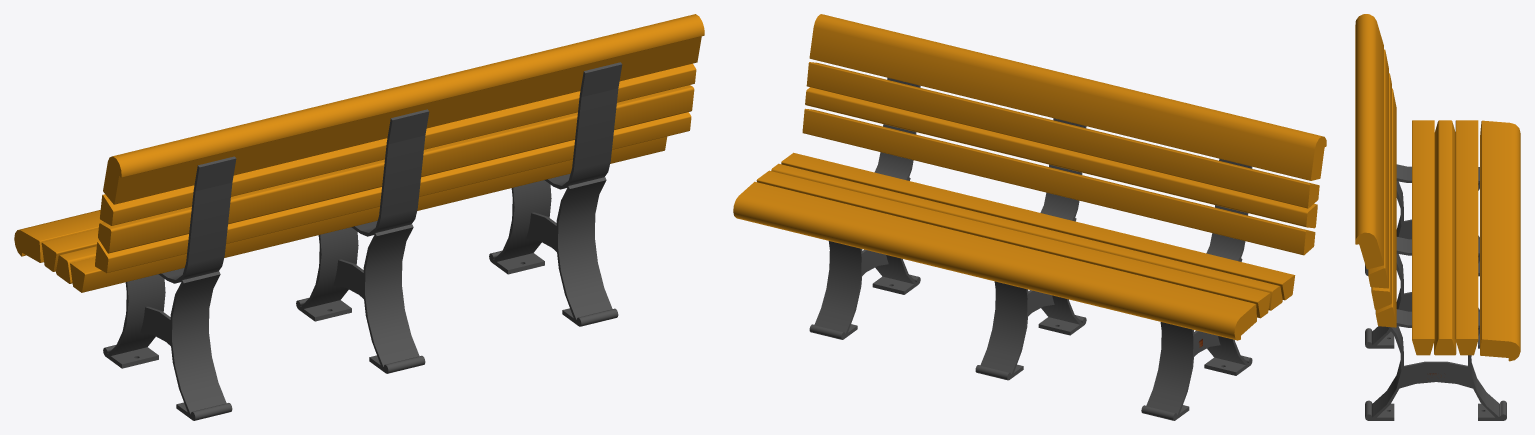
3 views of the same model, side by side, from view 1: azimuth 30°, elevation 25°; view 2: azimuth 150°, elevation 25°; view 3: azimuth 270°, elevation 25° (orthographic). The views are drawn at different scales.
Visible parts, largest first — view 1: mesh16_mesh16-geometry, mesh13_mesh13-geometry, mesh2_mesh2-geometry, mesh1_mesh1-geometry, mesh18_mesh18-geometry, mesh4_mesh4-geometry, mesh3_mesh3-geometry; view 2: mesh16_mesh16-geometry, mesh13_mesh13-geometry, mesh18_mesh18-geometry, mesh4_mesh4-geometry, mesh2_mesh2-geometry, mesh1_mesh1-geometry, mesh3_mesh3-geometry; view 3: mesh16_mesh16-geometry, mesh13_mesh13-geometry, mesh18_mesh18-geometry, mesh2_mesh2-geometry, mesh3_mesh3-geometry, mesh4_mesh4-geometry, mesh1_mesh1-geometry.
Boxes of the visible parts, left/top/right/bottom form: mesh16_mesh16-geometry: left=14, top=14, right=704, bottom=262; mesh13_mesh13-geometry: left=41, top=63, right=696, bottom=292; mesh2_mesh2-geometry: left=170, top=177, right=618, bottom=420; mesh1_mesh1-geometry: left=158, top=62, right=622, bottom=283; mesh18_mesh18-geometry: left=56, top=85, right=694, bottom=283; mesh4_mesh4-geometry: left=103, top=180, right=551, bottom=368; mesh3_mesh3-geometry: left=140, top=212, right=556, bottom=345; mesh16_mesh16-geometry: left=733, top=14, right=1326, bottom=340; mesh13_mesh13-geometry: left=756, top=62, right=1319, bottom=318; mesh18_mesh18-geometry: left=771, top=87, right=1317, bottom=310; mesh4_mesh4-geometry: left=809, top=241, right=1194, bottom=420; mesh2_mesh2-geometry: left=872, top=177, right=1252, bottom=375; mesh1_mesh1-geometry: left=874, top=77, right=1252, bottom=261; mesh3_mesh3-geometry: left=862, top=249, right=1220, bottom=356; mesh16_mesh16-geometry: left=1355, top=14, right=1520, bottom=361; mesh13_mesh13-geometry: left=1368, top=49, right=1478, bottom=355; mesh18_mesh18-geometry: left=1371, top=73, right=1456, bottom=355; mesh2_mesh2-geometry: left=1365, top=181, right=1403, bottom=420; mesh3_mesh3-geometry: left=1399, top=219, right=1472, bottom=388; mesh4_mesh4-geometry: left=1468, top=183, right=1506, bottom=420; mesh1_mesh1-geometry: left=1396, top=164, right=1479, bottom=328.
Bounding box in the file's own units: 0.8709 × 0.4053 × 0.2779.
